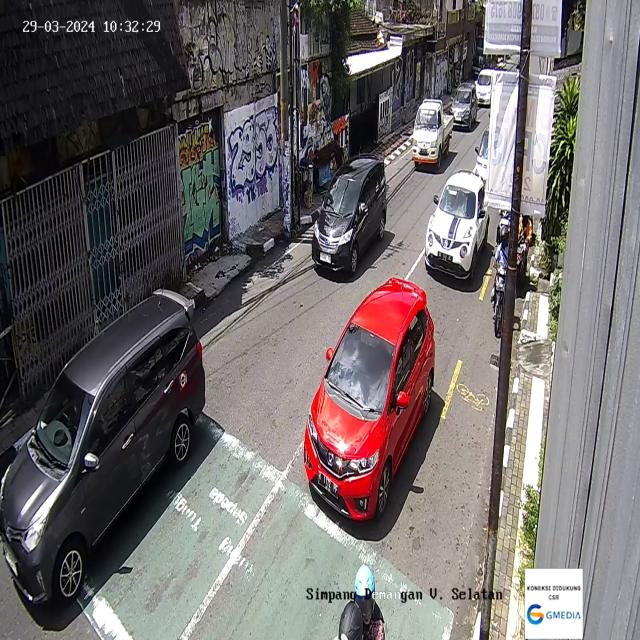car: (0, 287, 206, 608), (303, 276, 435, 522), (311, 154, 387, 276), (424, 168, 490, 281), (411, 98, 454, 168), (451, 80, 478, 130)
